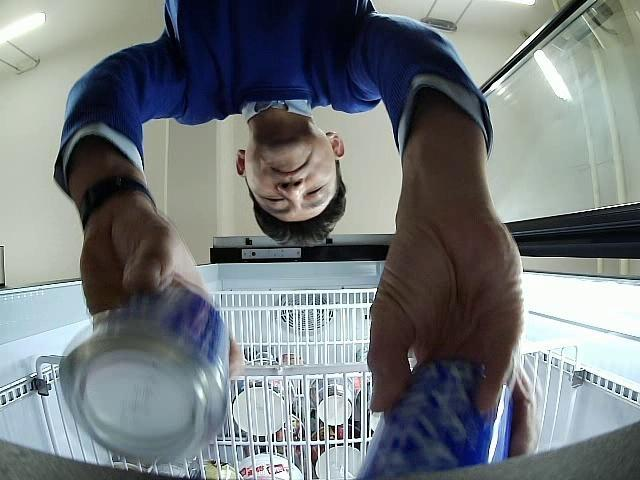13_pocariSweat: (60, 279, 231, 464), (356, 356, 514, 480)
